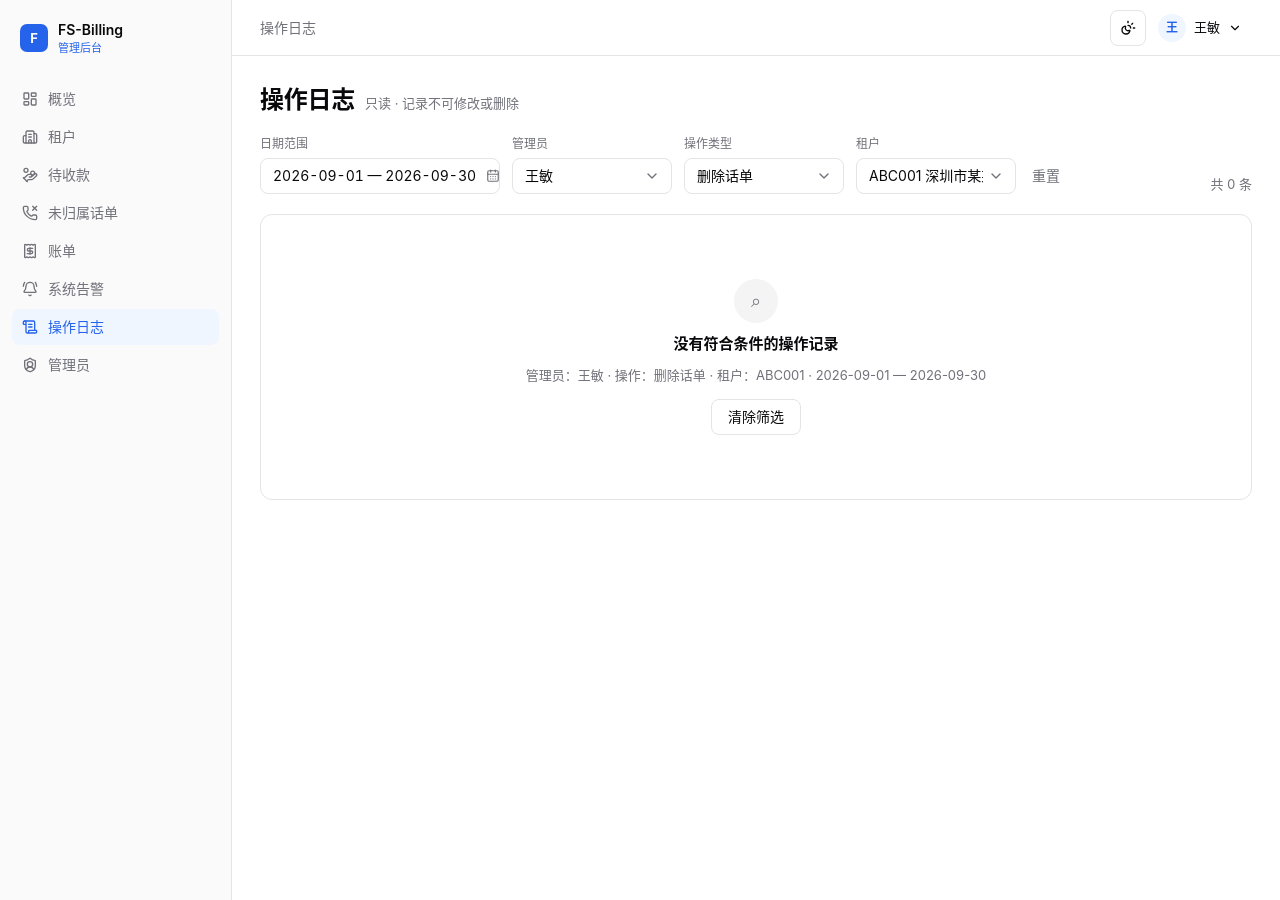
Test: audit logs › shows the empty state for the current filters and clears them
Check: the text "没有符合条件的操作记录" is shown, box top-left (674, 333), bottom-right (838, 356)
Check: the text "管理员：王敏 · 操作：删除话单 · 租户：ABC001 · 2026-09-01 — 2026-09-30" is shown, box top-left (526, 366), bottom-right (986, 385)
Click the button "清除筛选": coordinates (756, 417) top-left (711, 399), bottom-right (801, 435)
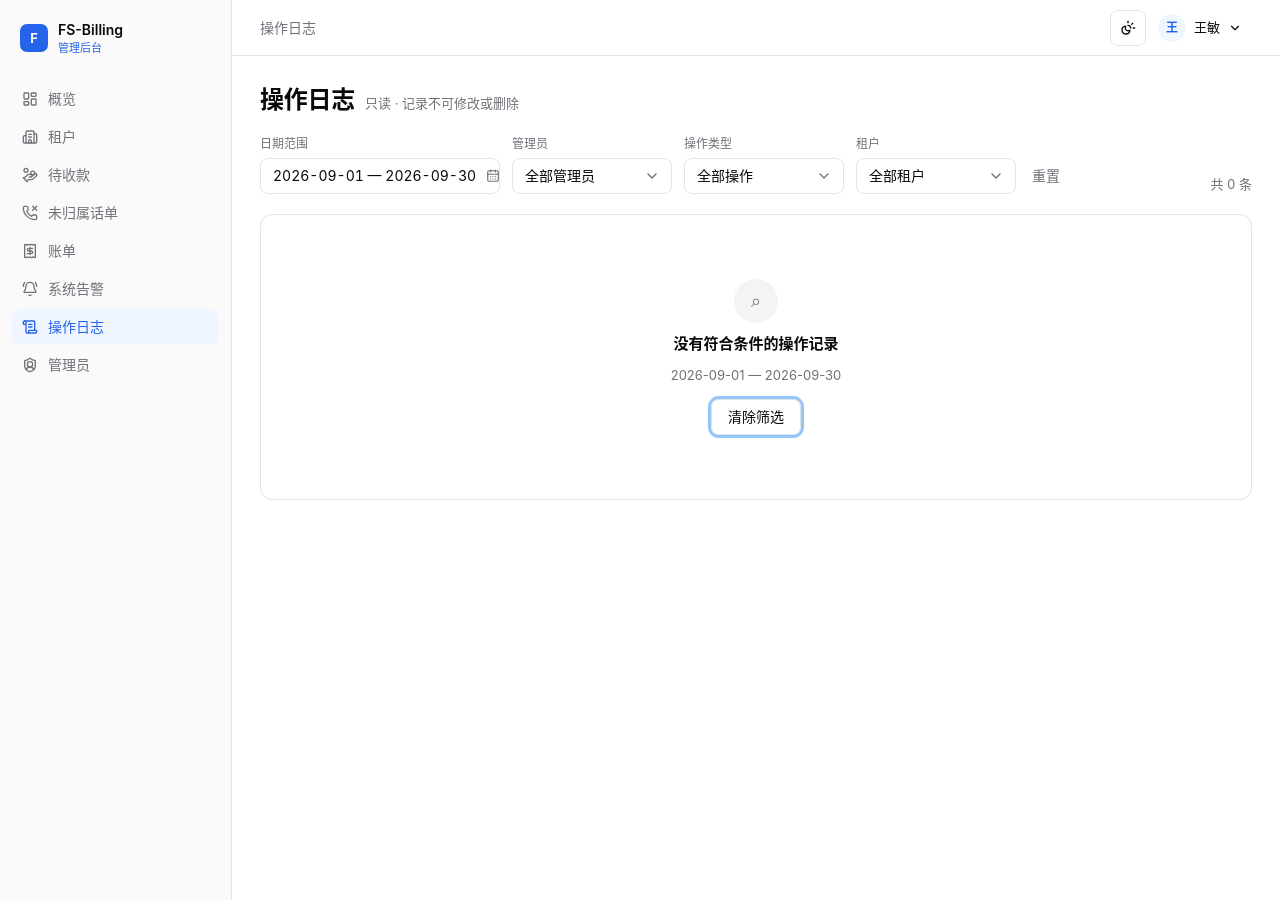
Check: the text "管理员：王敏" is gone
